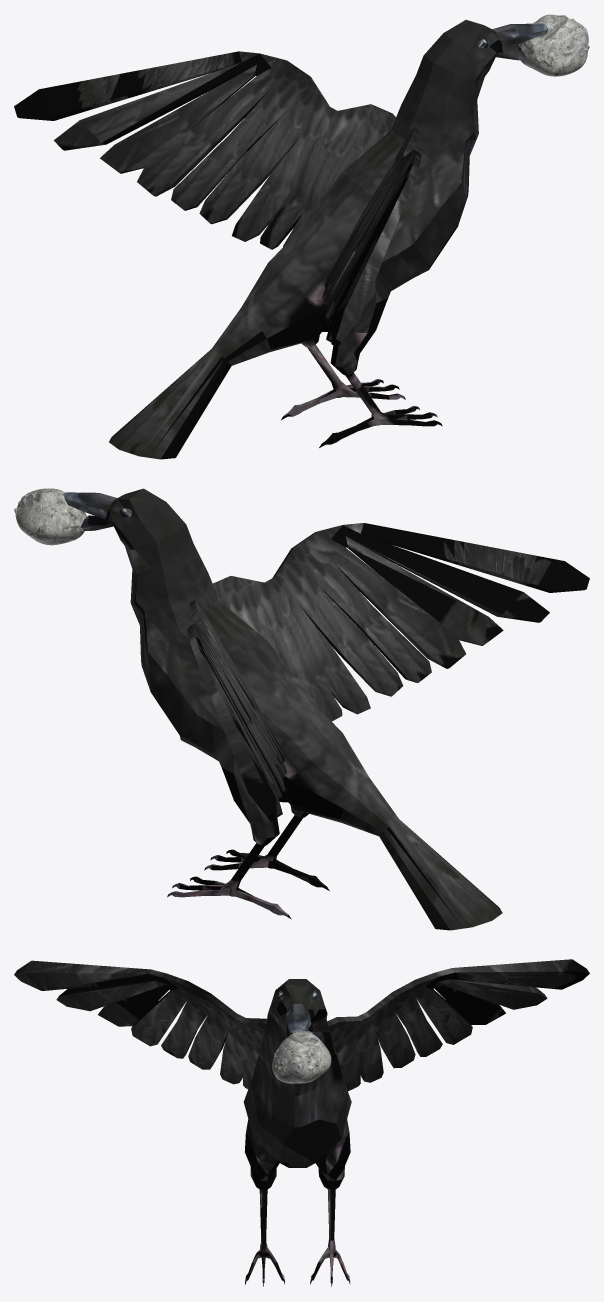
The model's file is crowTextureAnimPebble_000008.obj.
The picture shows the model from 3 angles, top to bottom: view 1: azimuth 30°, elevation 25°; view 2: azimuth 150°, elevation 25°; view 3: azimuth 270°, elevation 25°; orthographic projection. The views are drawn at different scales.
Visible parts, largest first — view 1: Cylinder.001, Cylinder.002, Cylinder.003, Icosphere_Icosphere.002; view 2: Cylinder.001, Cylinder.003, Cylinder.002, Icosphere_Icosphere.002; view 3: Cylinder.001, Cylinder.002, Cylinder.003, Icosphere_Icosphere.002.
Boxes of the visible parts, box(x1,y1,x2,y2) form: Cylinder.001: box(109, 20, 547, 459); Cylinder.002: box(14, 51, 395, 249); Cylinder.003: box(322, 126, 421, 347); Icosphere_Icosphere.002: box(519, 14, 589, 76); Cylinder.001: box(63, 488, 502, 930); Cylinder.003: box(213, 523, 589, 721); Cylinder.002: box(187, 600, 286, 822); Icosphere_Icosphere.002: box(14, 488, 87, 545); Cylinder.001: box(243, 979, 351, 1286); Cylinder.002: box(313, 959, 589, 1091); Cylinder.003: box(14, 960, 266, 1088); Icosphere_Icosphere.002: box(272, 1031, 331, 1083).
Bounding box in the file's own units: 5.55 × 4.1 × 6.52.
